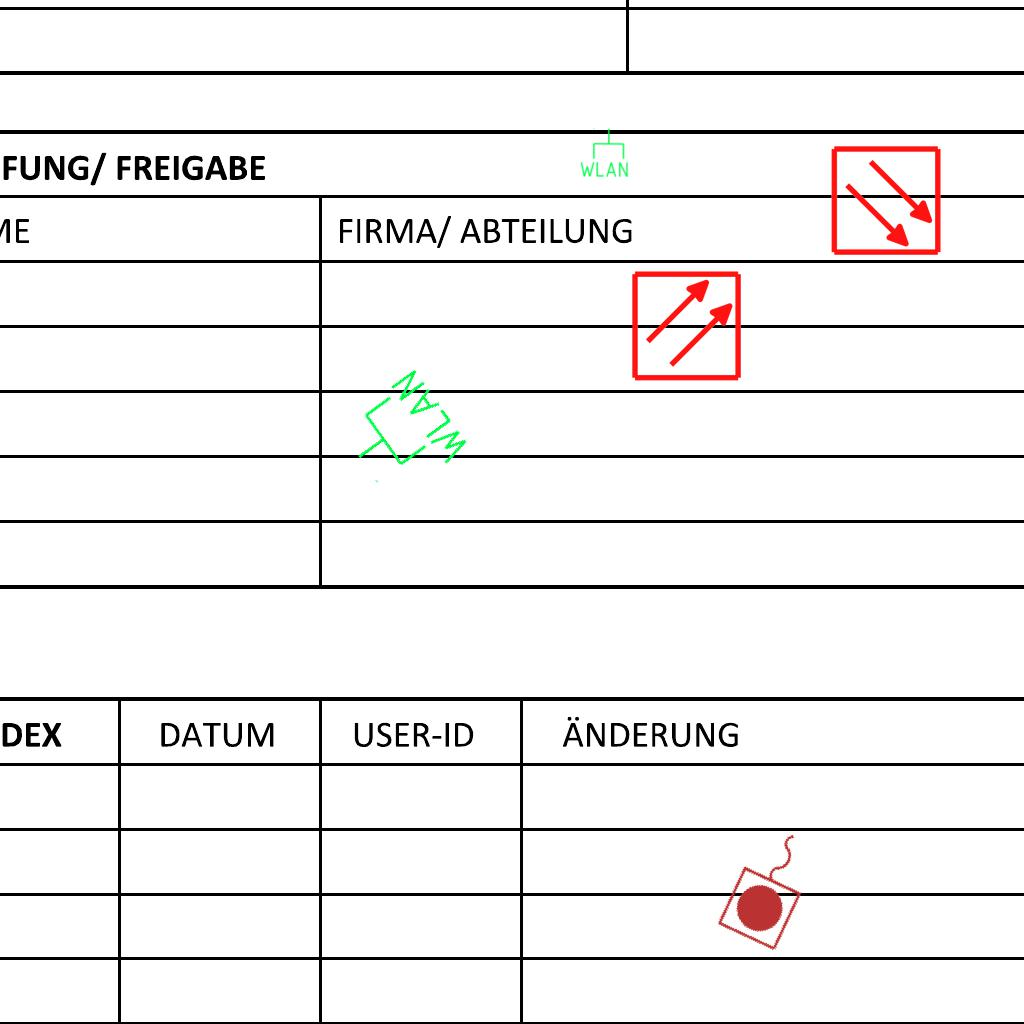RMO_Rauchmelder_optischer: (830, 144, 943, 257), (630, 269, 743, 382)
WLAN: (331, 363, 477, 510), (578, 127, 630, 179)
Zugtaster: (712, 815, 830, 957)
